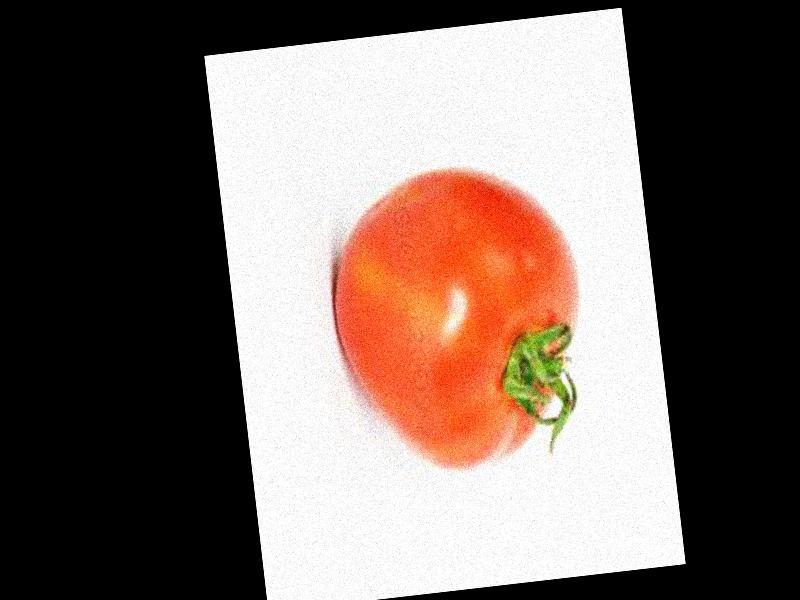Tomato: (320, 155, 601, 481)
